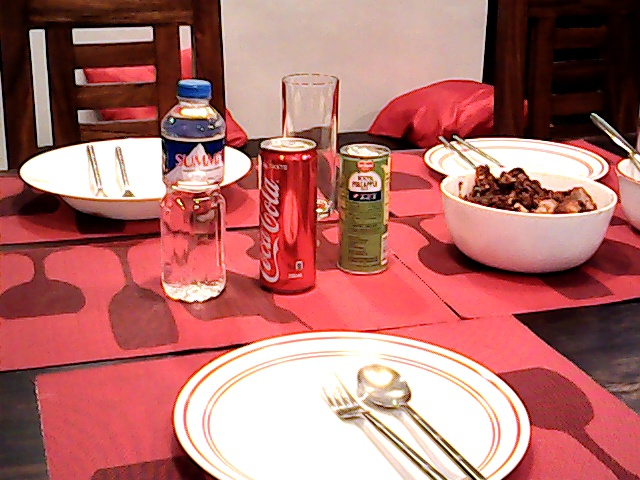Cola: (250, 126, 329, 302)
Pine Juice: (334, 133, 400, 280)
Summit Water: (152, 69, 234, 304)
